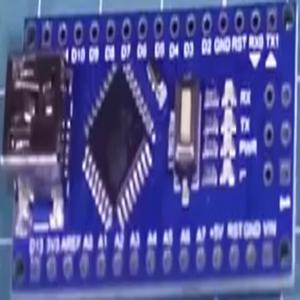duino: (6, 11, 294, 286)
